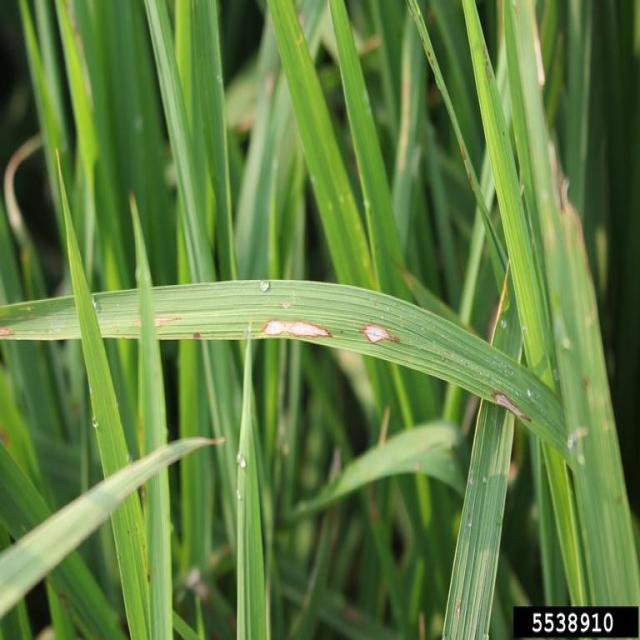Bacterial leaf blight: (548, 133, 601, 286), (251, 304, 347, 346), (356, 310, 430, 357), (122, 304, 182, 335), (0, 306, 47, 343), (491, 386, 528, 424), (528, 22, 549, 85)
